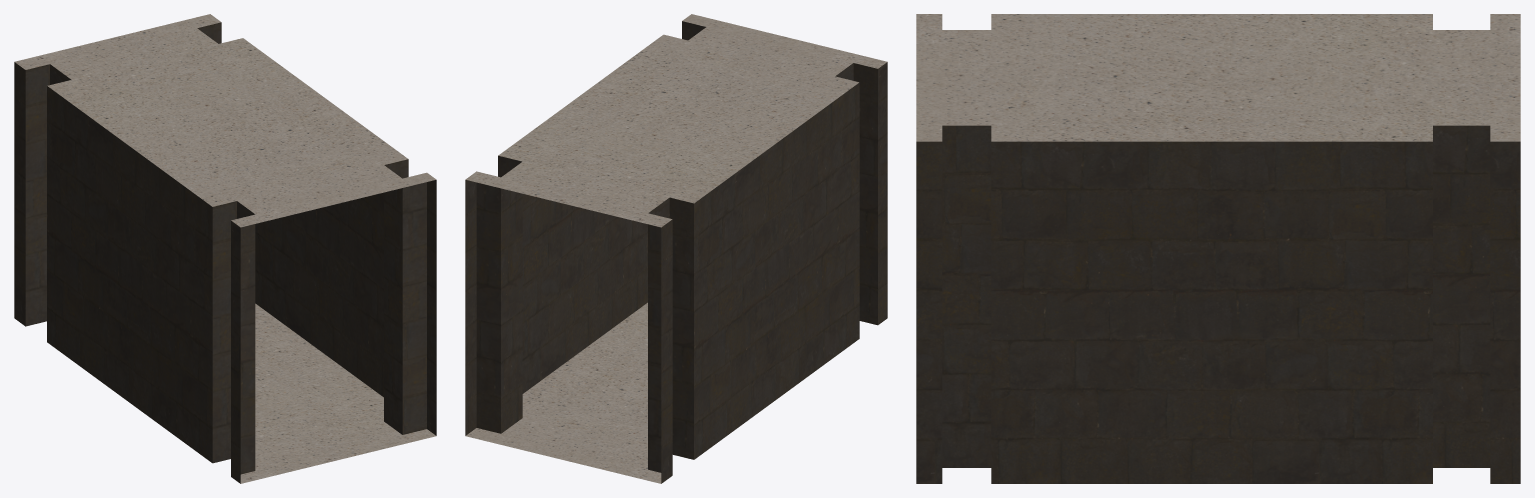
The model's file is dungeon0.fbx.
3 views of the same model, side by side, from view 1: azimuth 30°, elevation 25°; view 2: azimuth 150°, elevation 25°; view 3: azimuth 270°, elevation 25° (orthographic). The views are drawn at different scales.
Visible parts, largest first — view 1: dungeon; view 2: dungeon; view 3: dungeon.
Part boxes in pixels (bbox=[...]): dungeon: bbox=[14, 14, 436, 483]; dungeon: bbox=[465, 14, 887, 483]; dungeon: bbox=[916, 14, 1520, 483].
Bounding box in the file's own units: 600 × 750 × 1200.
